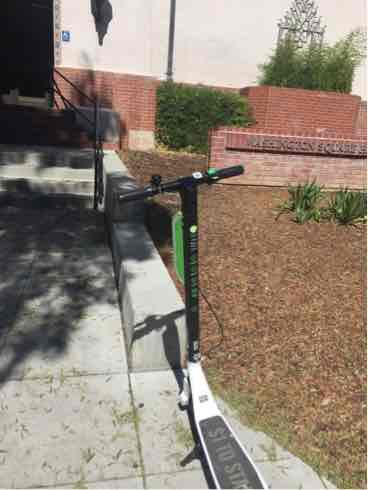scooter: (111, 165, 338, 488)
